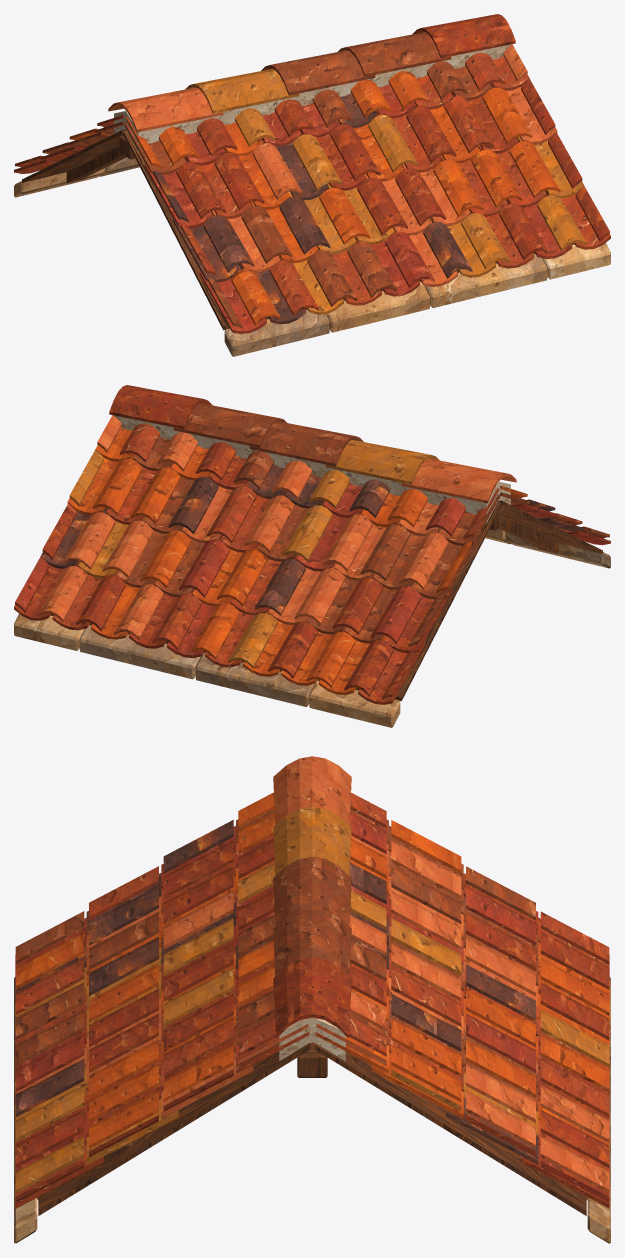
The model's file is roof_45_ridge__clay_brick.glb.
3 renders of one model, top to bottom at view 1: azimuth 30°, elevation 25°; view 2: azimuth 150°, elevation 25°; view 3: azimuth 270°, elevation 25°, orthographic. The views are drawn at different scales.
Parts seen in each view (by area): view 1: model; view 2: model; view 3: model.
Part boxes in pixels (x1,y1,x2,y2): model: (14, 14, 610, 356); model: (14, 385, 610, 727); model: (14, 756, 610, 1243).
Size of the model in its own units: 1.99 by 0.8695 by 1.99.
Materials: 14 (14 with a texture image).
